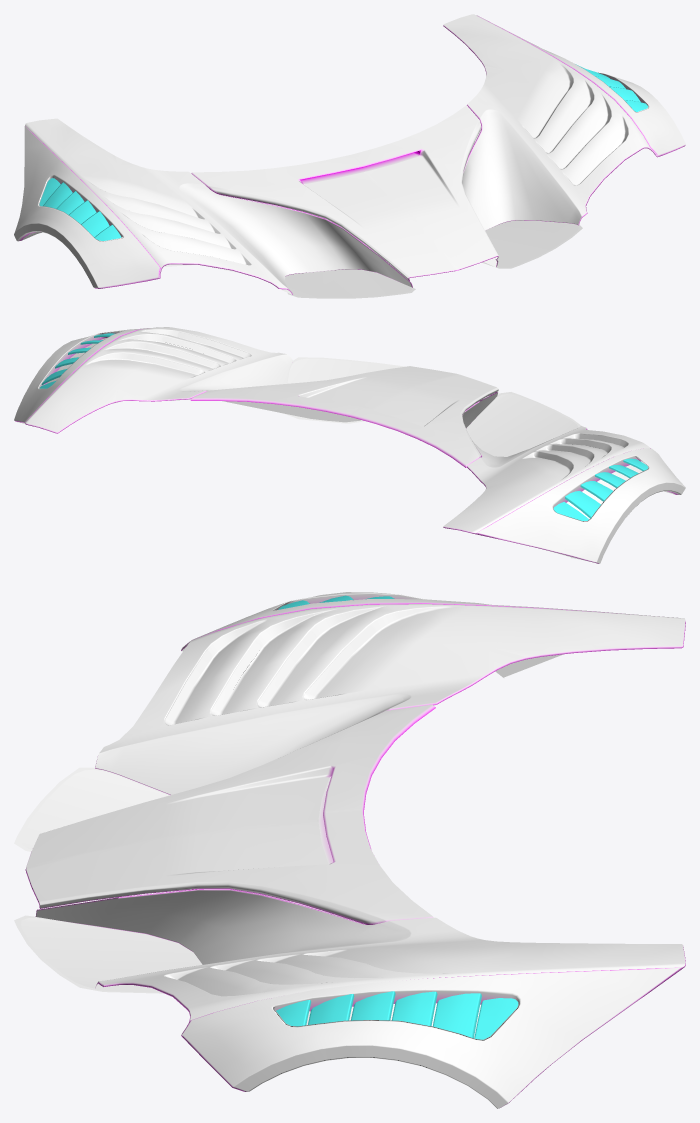
The model's file is Car_Ford_GT_2017_Hood_SetO.fbx.
3 renders of one model, top to bottom at view 1: azimuth 30°, elevation 25°; view 2: azimuth 150°, elevation 25°; view 3: azimuth 270°, elevation 25°, orthographic. The views are drawn at different scales.
Visible parts, largest first — view 1: Hood 6; view 2: Hood 6; view 3: Hood 6.
Part boxes in pixels (bbox=[...]): Hood 6: bbox=[14, 14, 685, 298]; Hood 6: bbox=[14, 327, 685, 563]; Hood 6: bbox=[14, 592, 685, 1108].
Bounding box in the file's own units: 2.14 × 0.2586 × 1.33.
